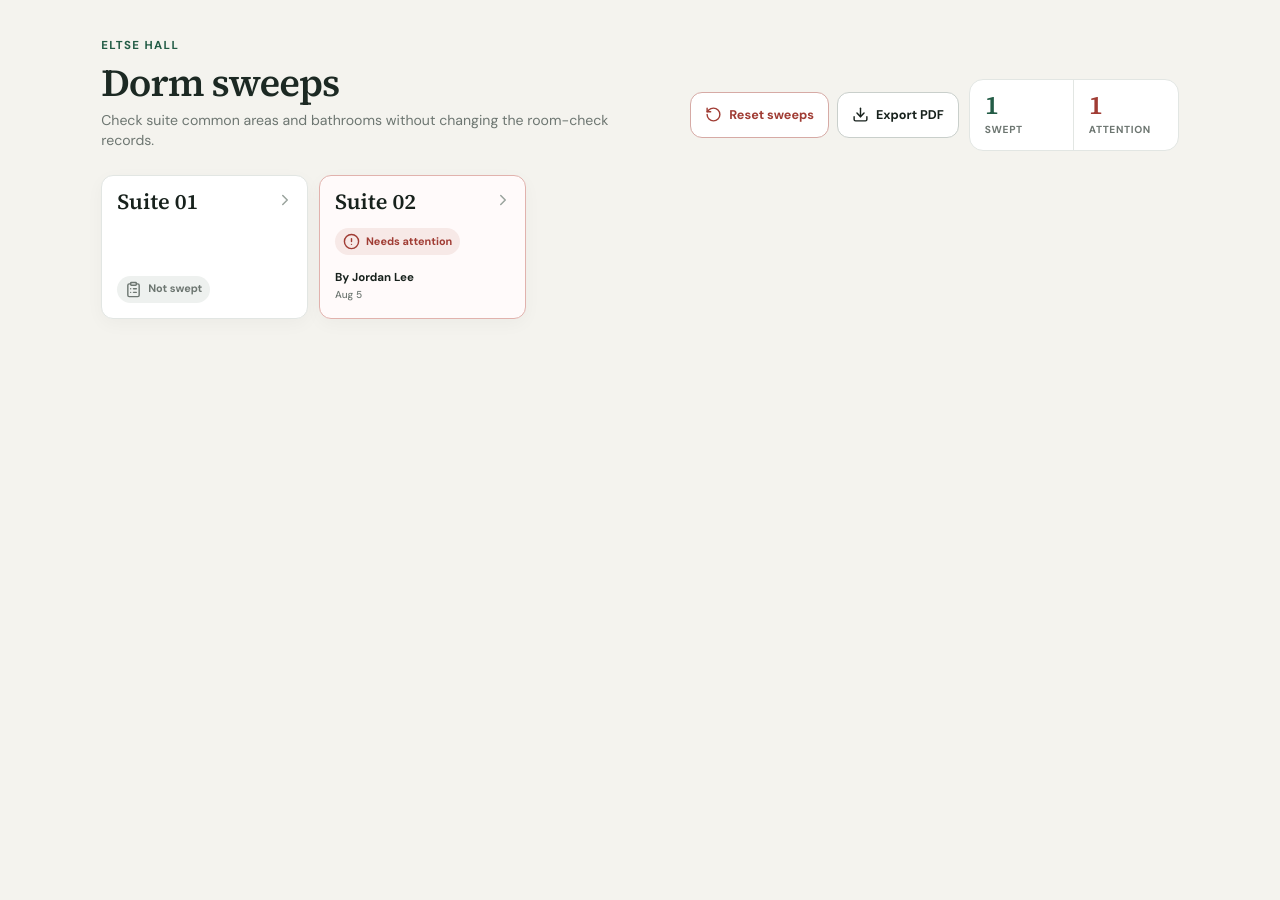
Test: Dorm sweeps › allows every signed-in user to open the reset confirmation, including with no saved sweeps
Check: the button "Suite 01 Not swept" is shown, box left=101, top=175, right=308, bottom=319
Click the button "Reset sweeps": click(760, 115) left=690, top=92, right=829, bottom=138
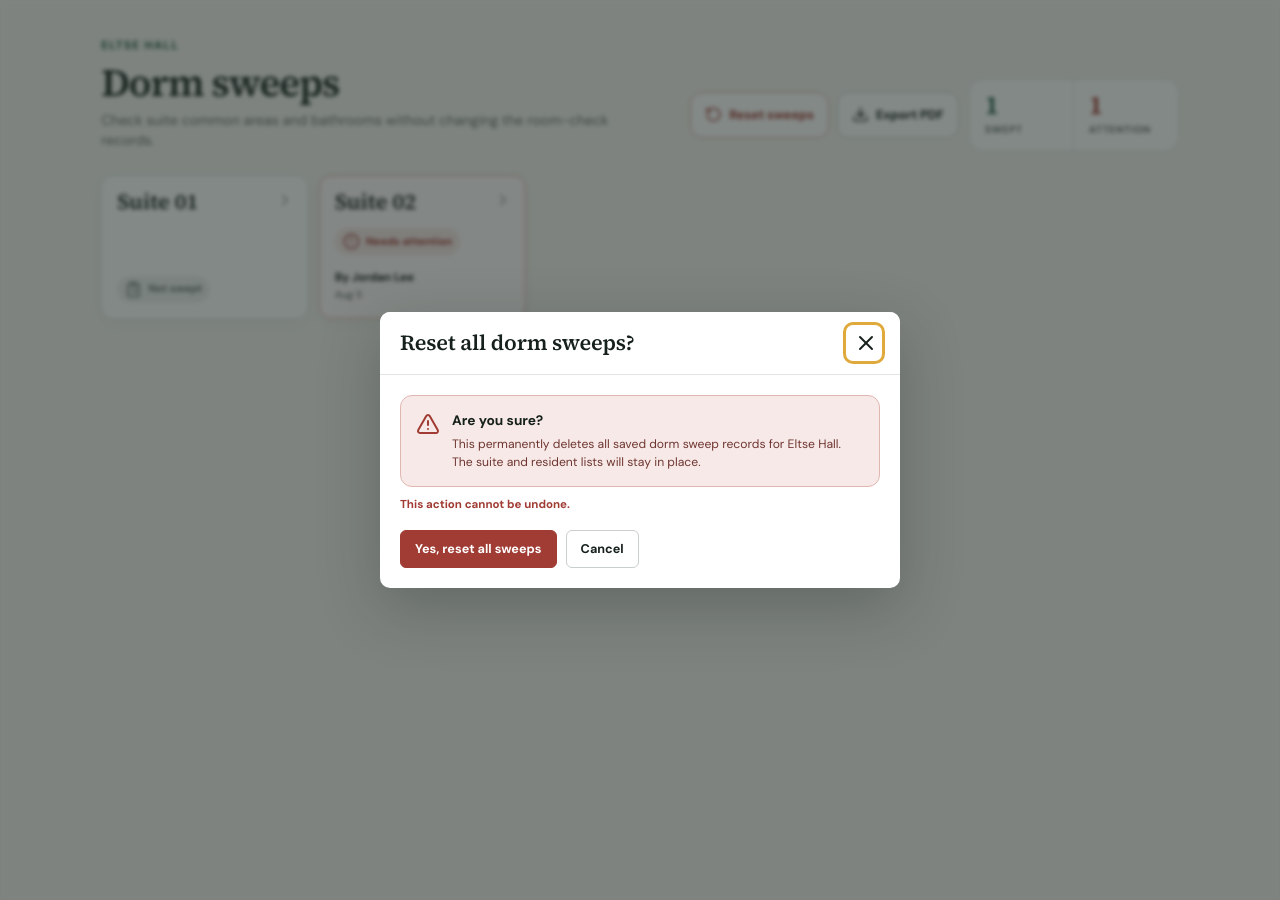
Check: the dialog "Reset all dorm sweeps?" is shown, box left=380, top=312, right=900, bottom=588
